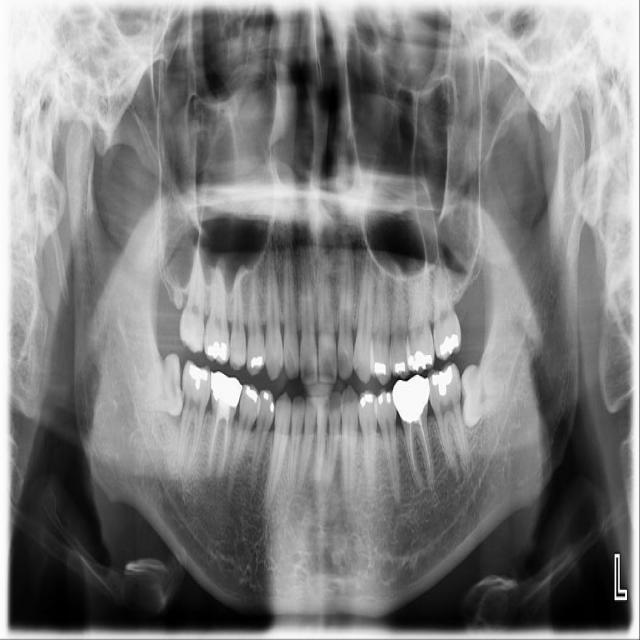Crown: (392, 375, 430, 423), (210, 371, 243, 411)
Filling: (430, 364, 455, 396), (187, 365, 209, 390), (207, 341, 230, 362), (440, 333, 460, 357), (408, 351, 432, 371), (261, 392, 275, 412), (243, 386, 258, 403), (359, 393, 375, 408), (392, 361, 407, 377), (374, 361, 387, 378), (250, 354, 263, 370), (376, 392, 391, 404)
Root Canal Treatment: (420, 420, 429, 476), (208, 421, 217, 474), (218, 423, 226, 474), (414, 462, 418, 477), (410, 426, 412, 450), (412, 450, 414, 462)
impacted tooth: (125, 355, 183, 416), (460, 363, 506, 428)
